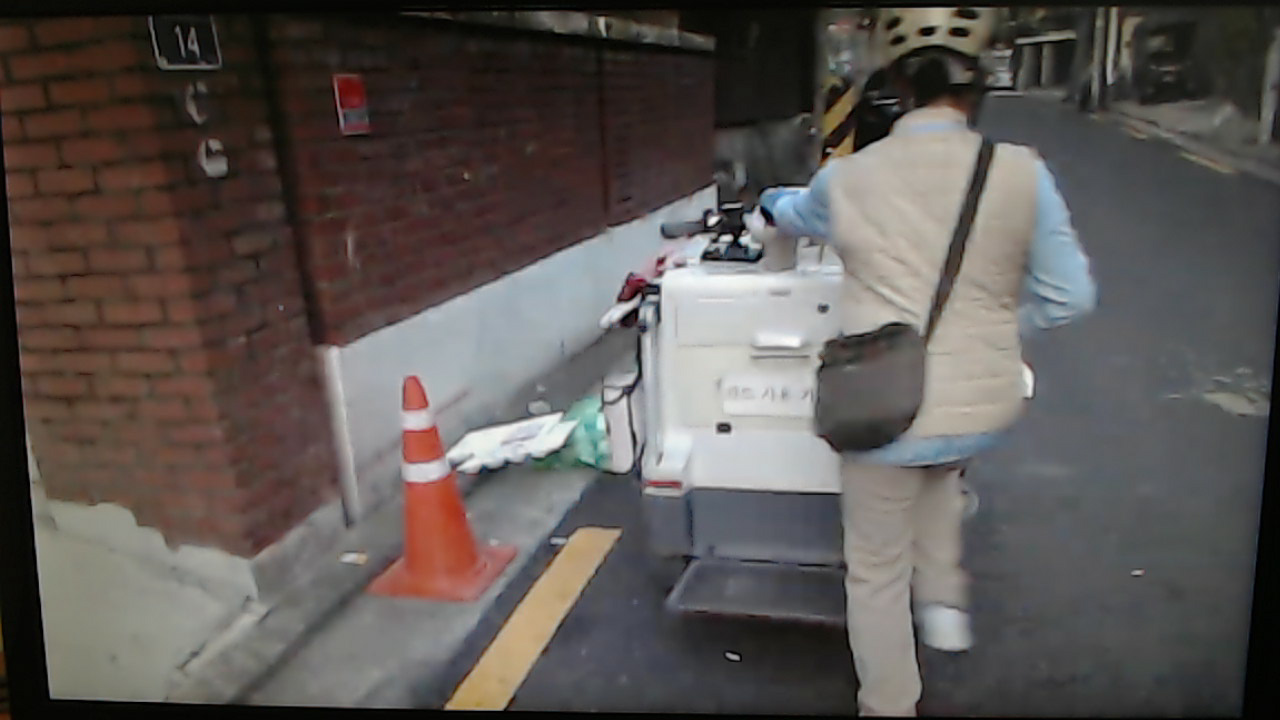Yakurut: (748, 12, 1108, 718)
